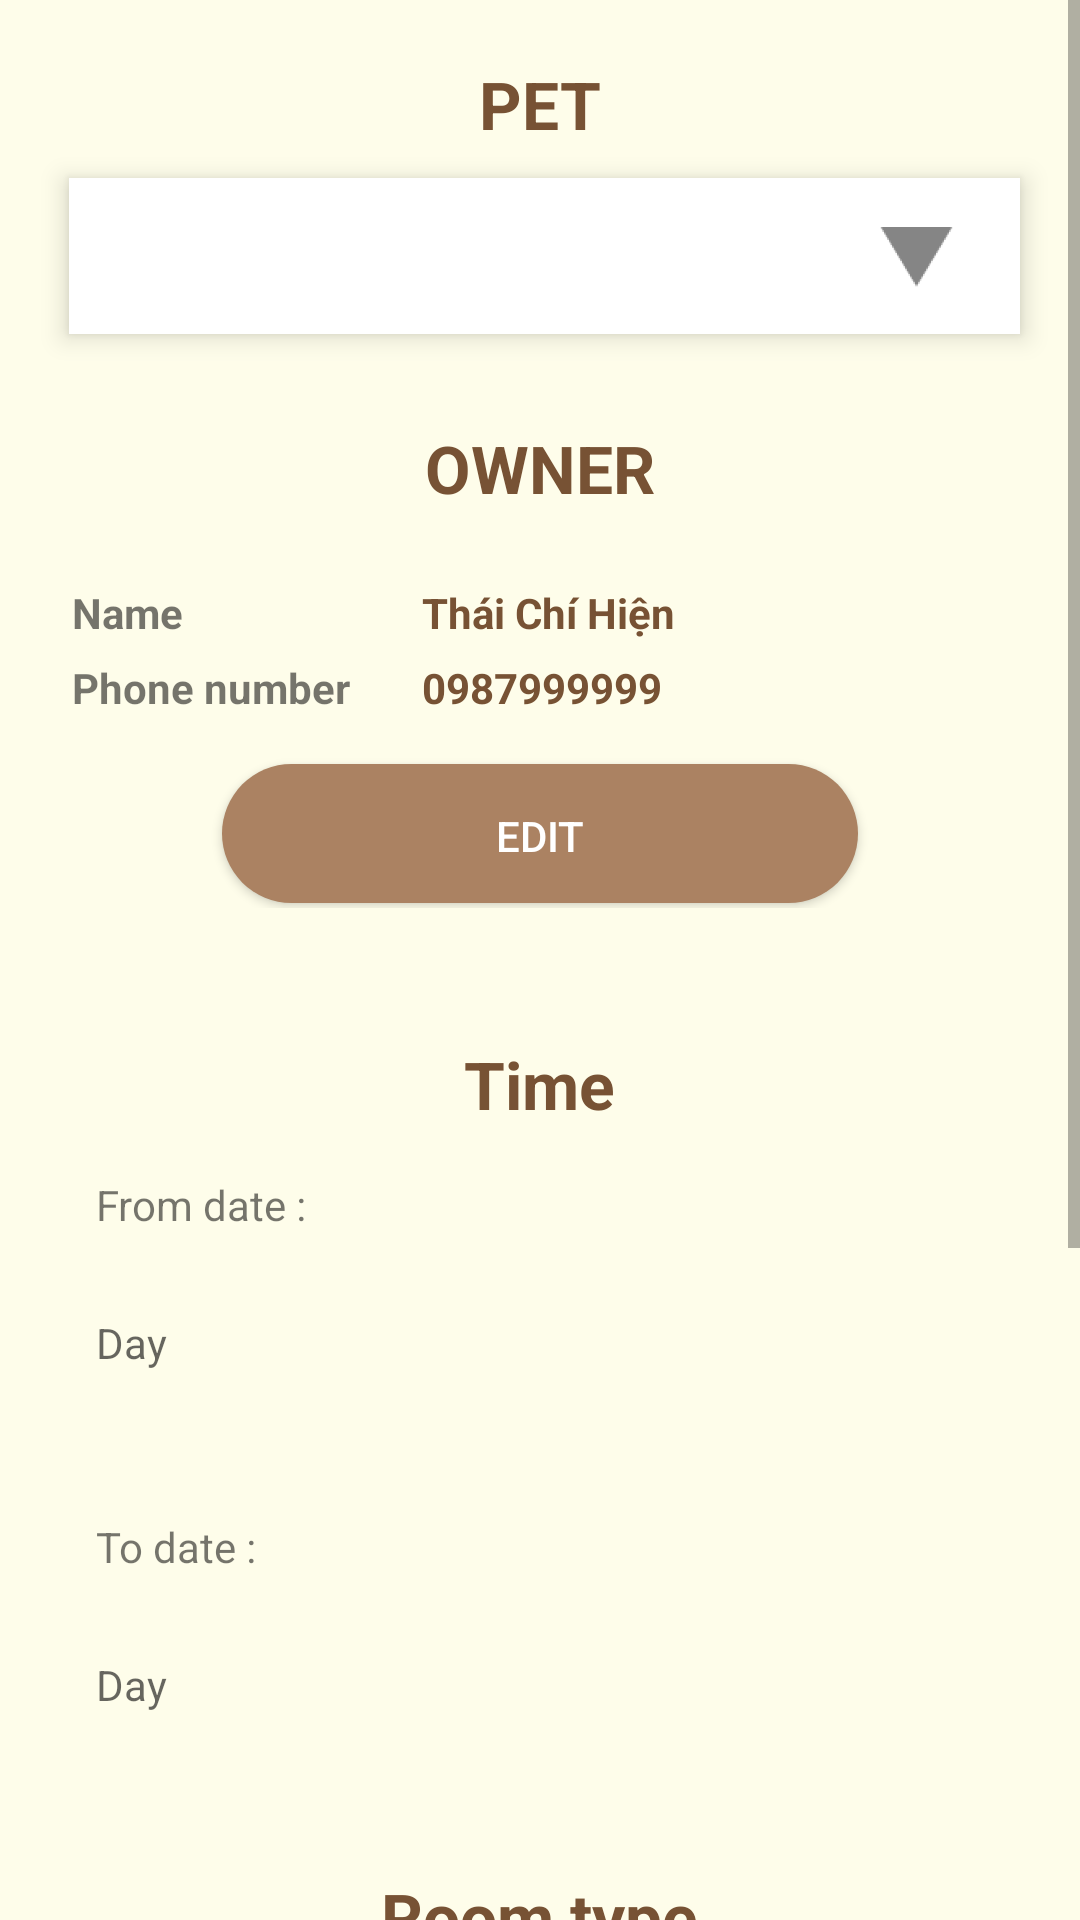

Screen size 1080px×1920px. Icon name, then its center in pixels as (x=x, y=y):
dropdown: (x=916, y=256)
